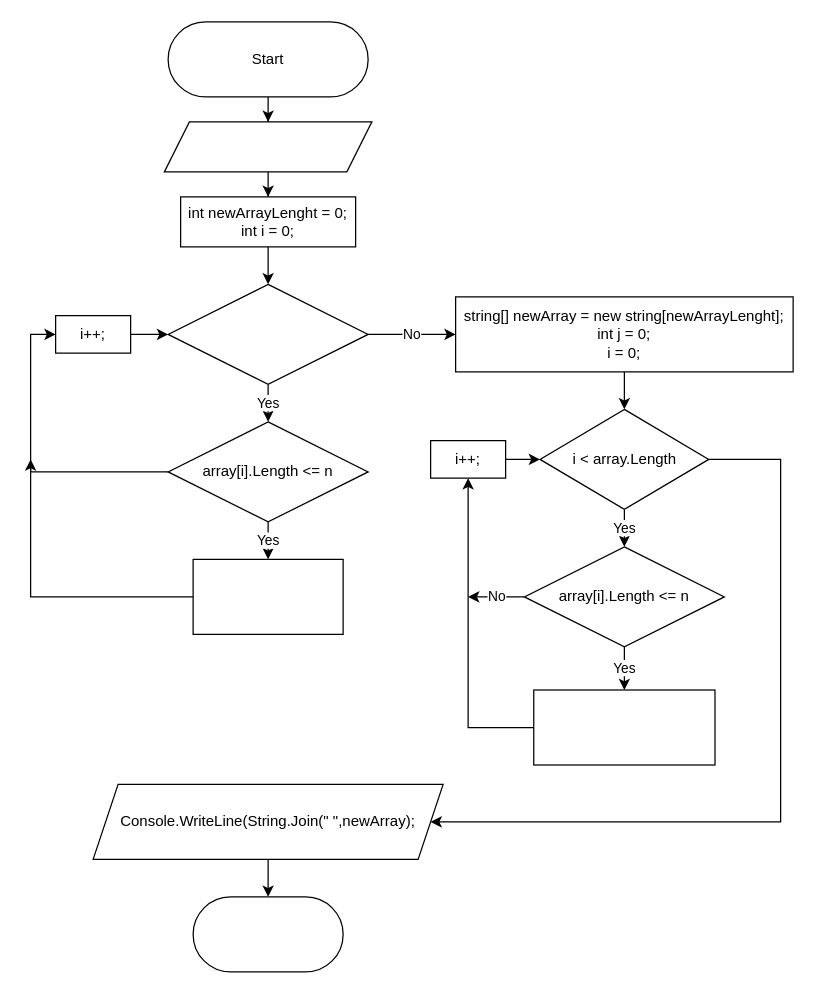
This 815x994 diagram has some shape labels left out. Here are the shapes that lost their labels. From the top down, the box of each, then its label:
(163, 121, 372, 172): string[] array ; n = 3;
(167, 283, 368, 384): i<array.Lenght;
(192, 558, 343, 634): newArrayLenght++;
(532, 689, 715, 765): newArray[j++] = array[i];
(192, 896, 343, 972): End
